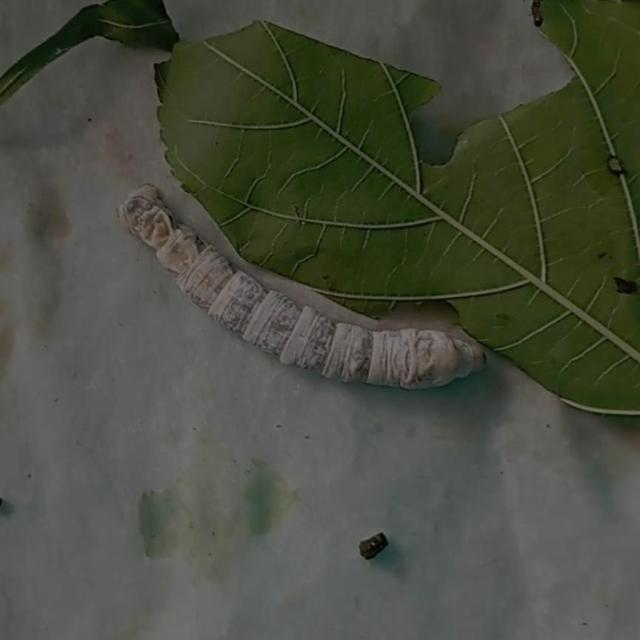Grasserie: (92, 143, 528, 434)
